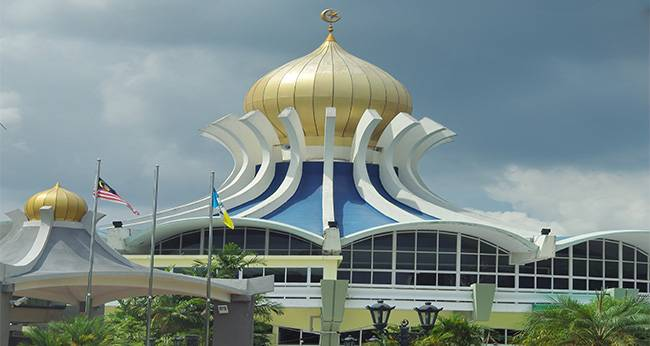Mosque: (197, 7, 429, 237)
